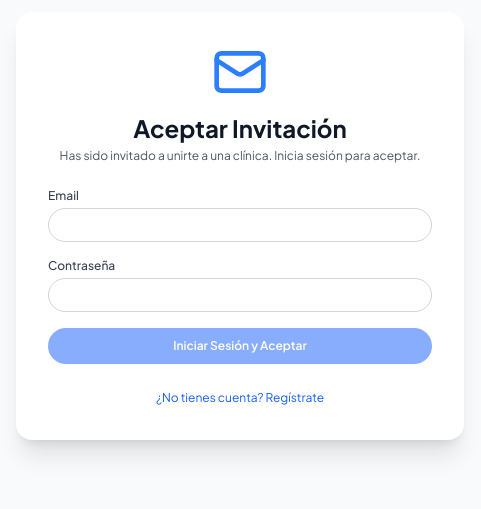
Test: AceptarInvitacion › debe cambiar a modo registro
The width and height of the screenshot is (481, 509).
Click the button "¿No tienes cuenta? Regístrate" at (240, 398), box x1=156 y1=390 x2=324 y2=406
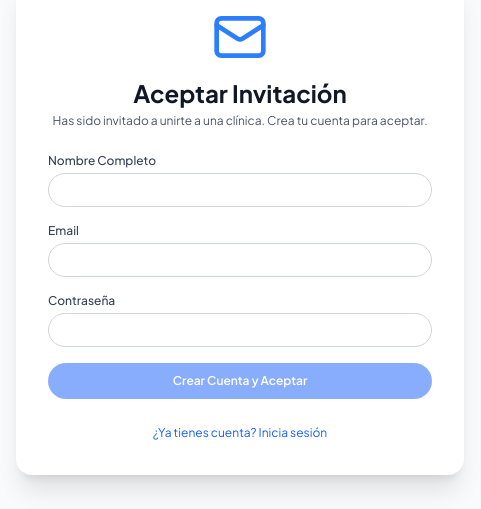
Now the field labelled "Nombre Completo" is shown, box x1=48 y1=173 x2=432 y2=207
Now the button "¿Ya tienes cuenta? Inicia sesión" is shown, box x1=153 y1=425 x2=327 y2=441
